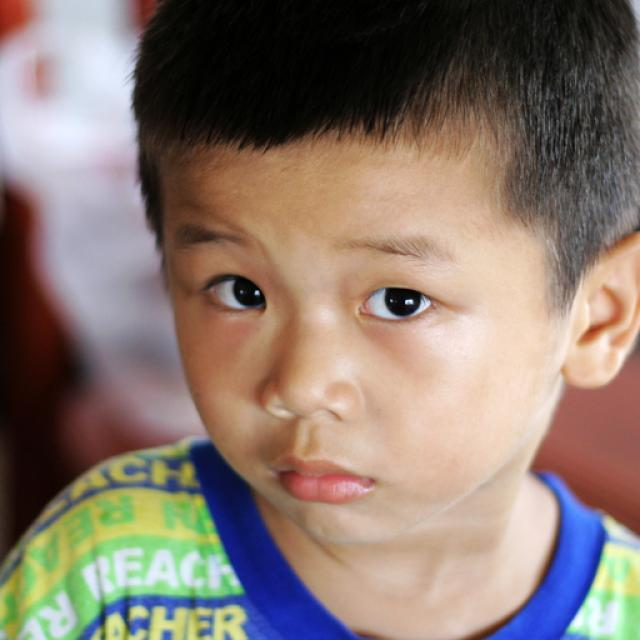neutral: (168, 106, 558, 549)
